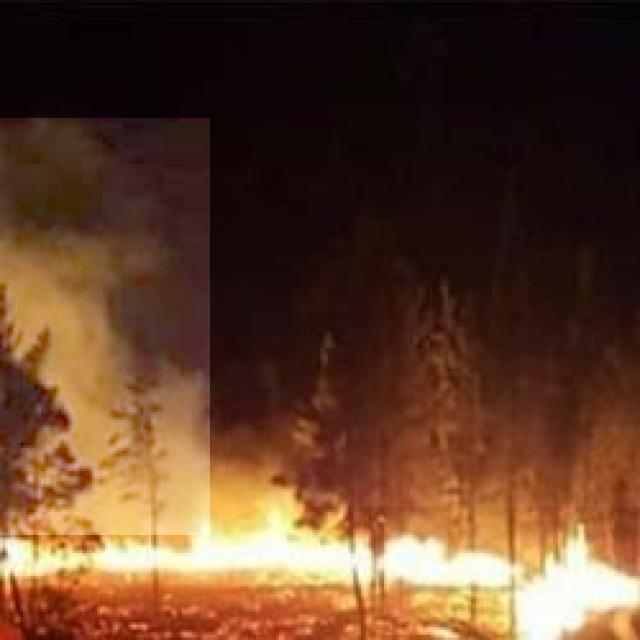Fire: (0, 507, 640, 640)
Smoke: (0, 118, 210, 535)
